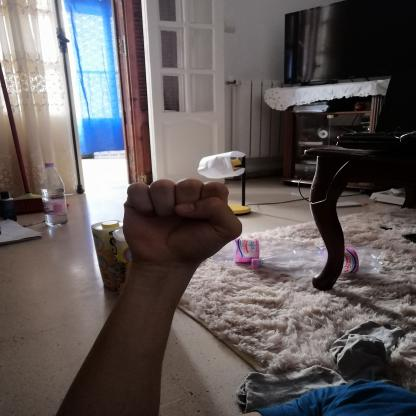SAD: (108, 167, 253, 274)
